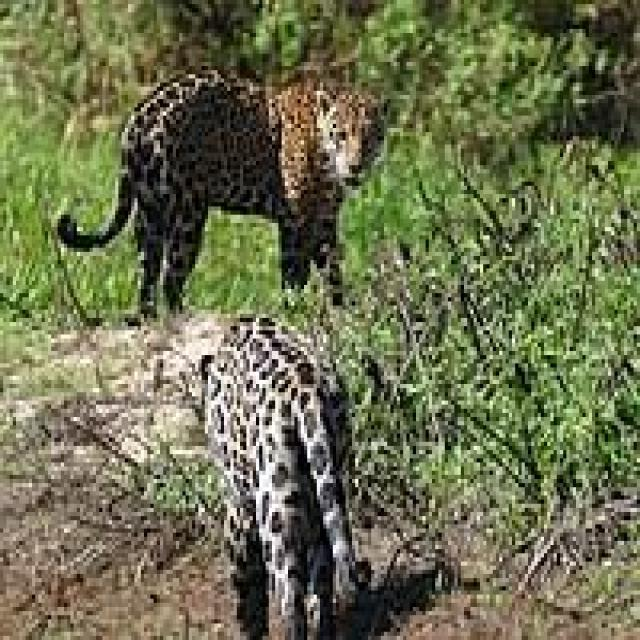Jaguar: (54, 66, 393, 318), (195, 318, 378, 640)
